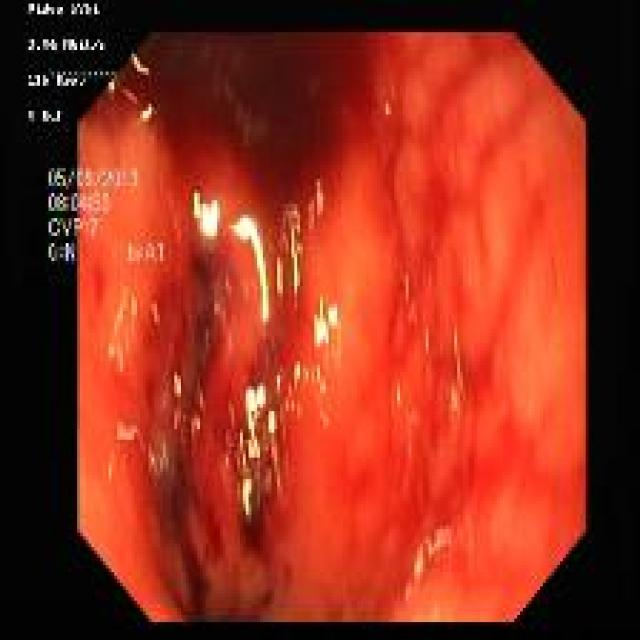ulcerative-colitis: (79, 33, 586, 621)
